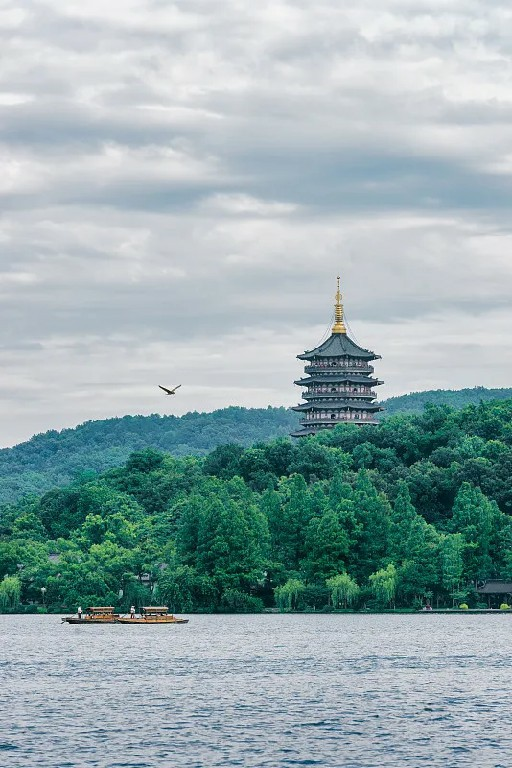Leifeng: (294, 277, 384, 448)
